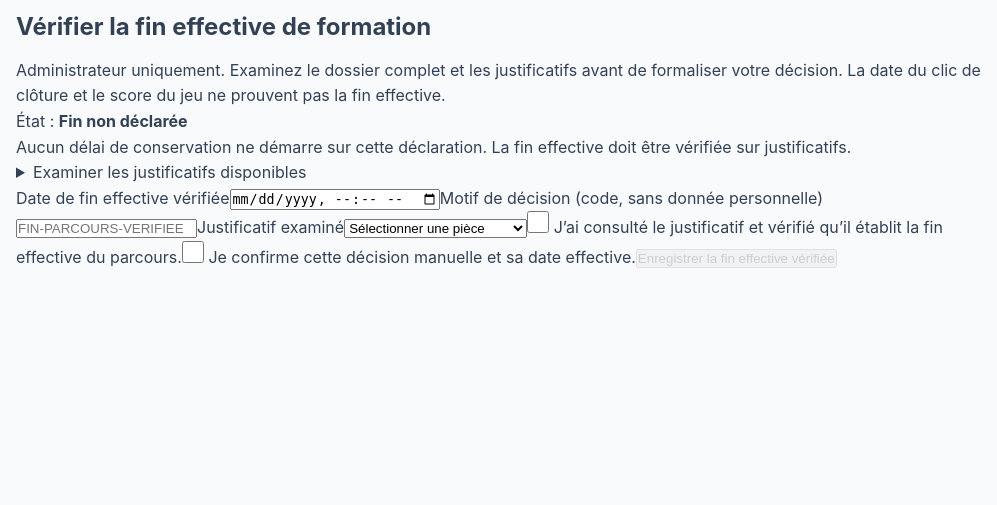
admin : examen des pièces et double confirmation avant décision effective
Expected: the button "Enregistrer la fin effective vérifiée" is disabled, 636,249 -> 837,268
Click the heading "Examiner les justificatifs disponibles".
click(170, 172)  # box 33,162 -> 306,182
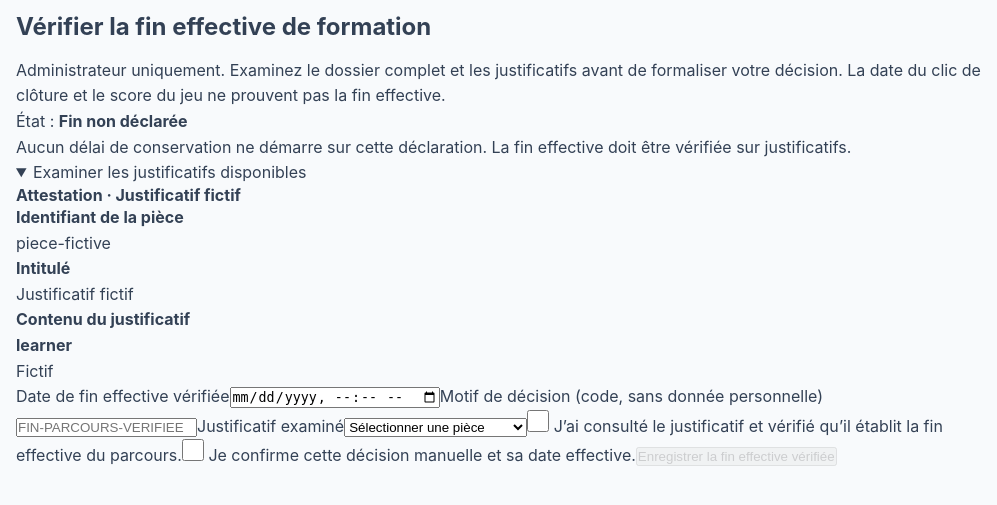
Now the text "Fictif" is shown, box 16,360 -> 54,380
Type "2026-10-01T12:00" into the field labelled "Date de fin effective vérifiée".
click(335, 398); type("2026-10-01T12:00")  # box 230,387 -> 440,408
Type "fin_fictive" into the field labelled "Motif de décision (code, sans donnée personnelle)".
click(106, 427); type("fin_fictive")  # box 16,418 -> 197,437
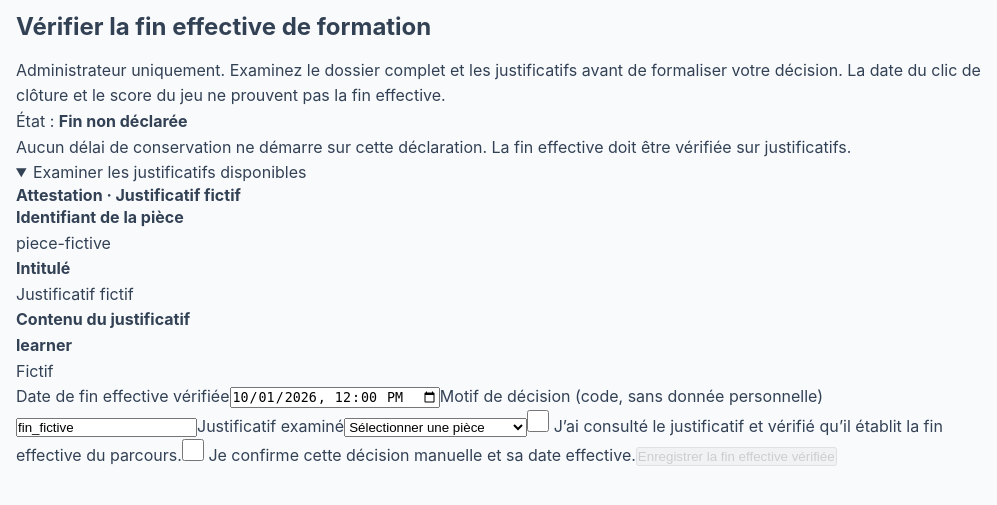
Select "Attestation · Justificatif fictif" in the dropdown labelled "Justificatif examiné" at [436, 427], box 344,418 -> 527,437
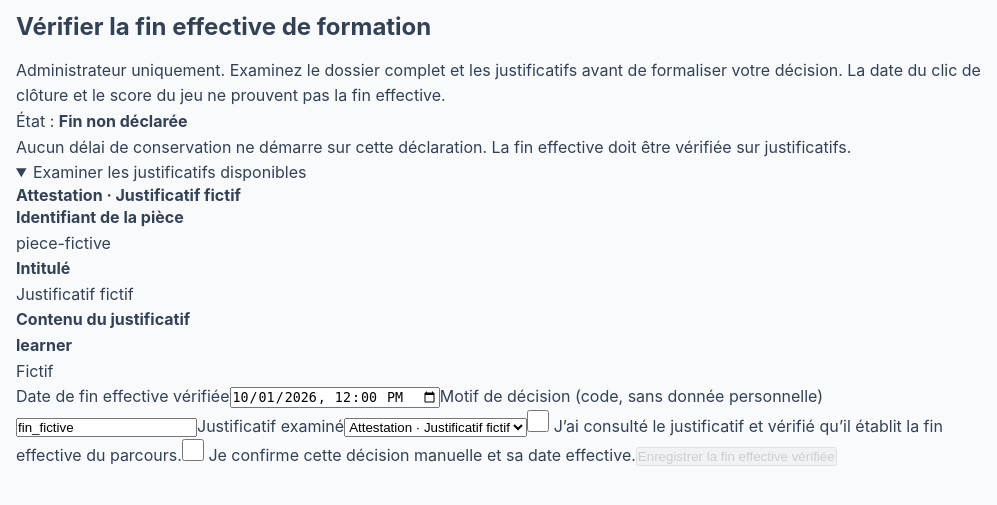
Click the checkbox labelled "J’ai consulté le justificatif".
click(538, 421)  # box 527,410 -> 549,432
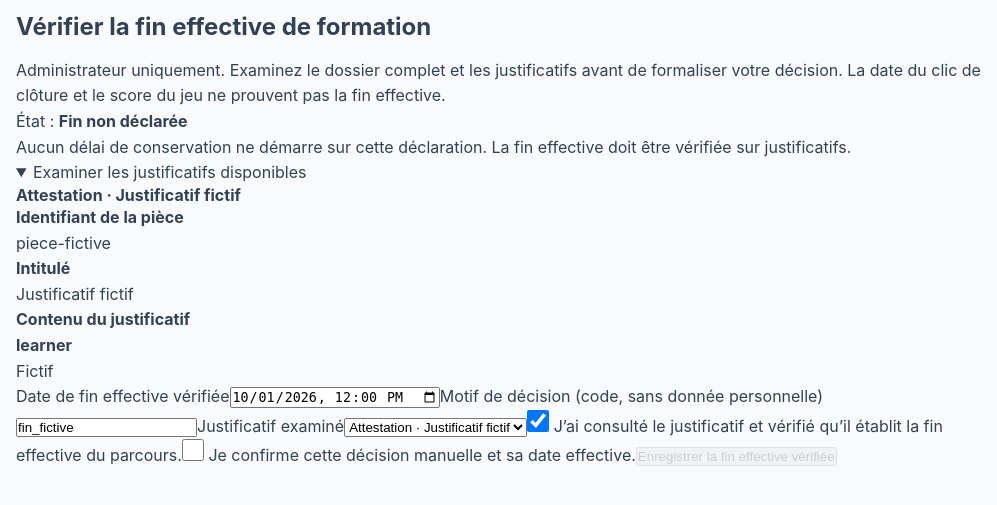
Expected: the button "Enregistrer la fin effective vérifiée" is disabled, 636,447 -> 837,466
Click the checkbox labelled "Je confirme cette décision manuelle et sa date effective.".
click(193, 450)  # box 182,439 -> 204,461
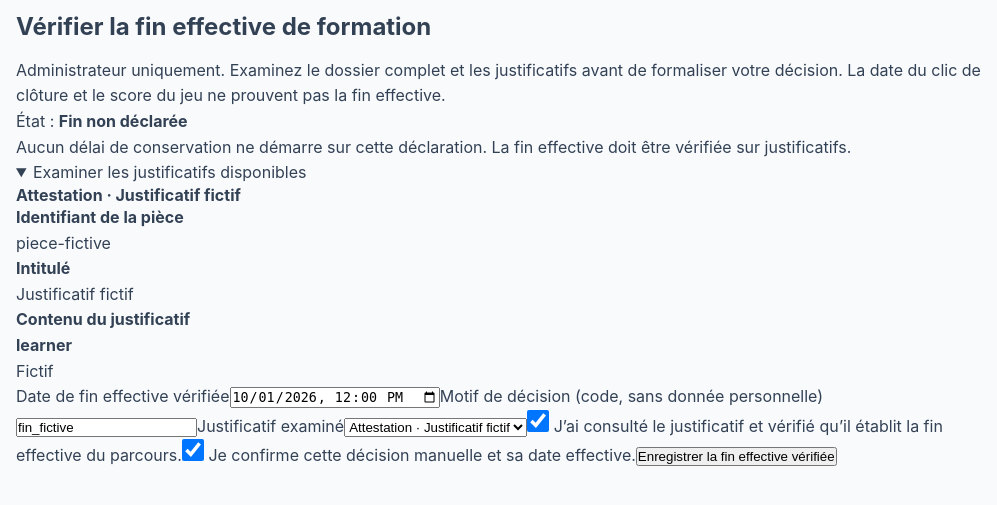
Click the button "Enregistrer la fin effective vérifiée".
click(736, 457)  # box 636,447 -> 837,466
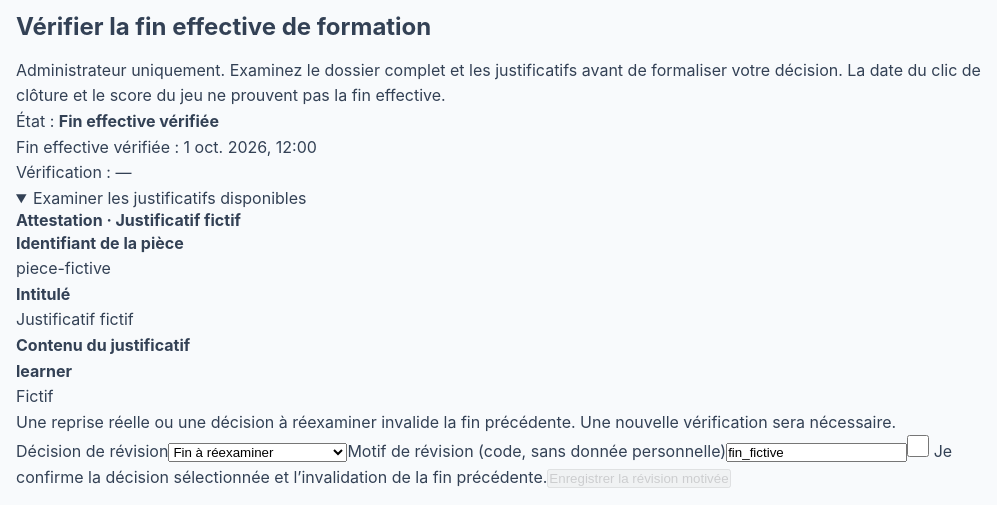
Now the button "Enregistrer la fin effective vérifiée" is gone
